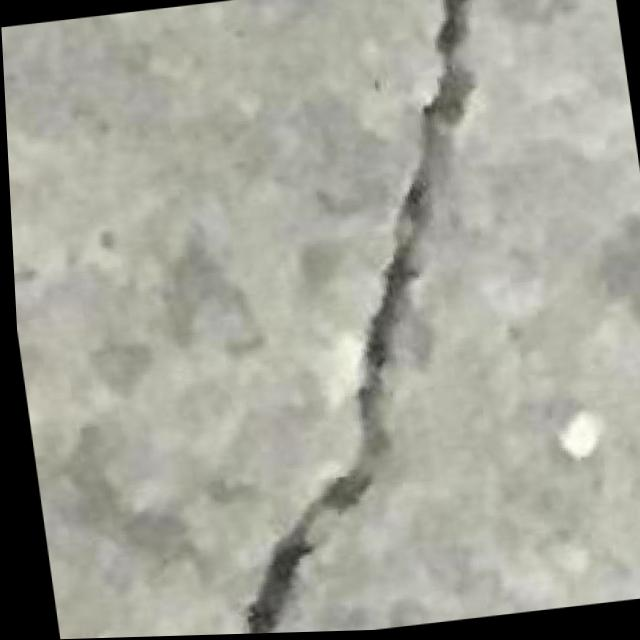Crack: (138, 0, 566, 637)
